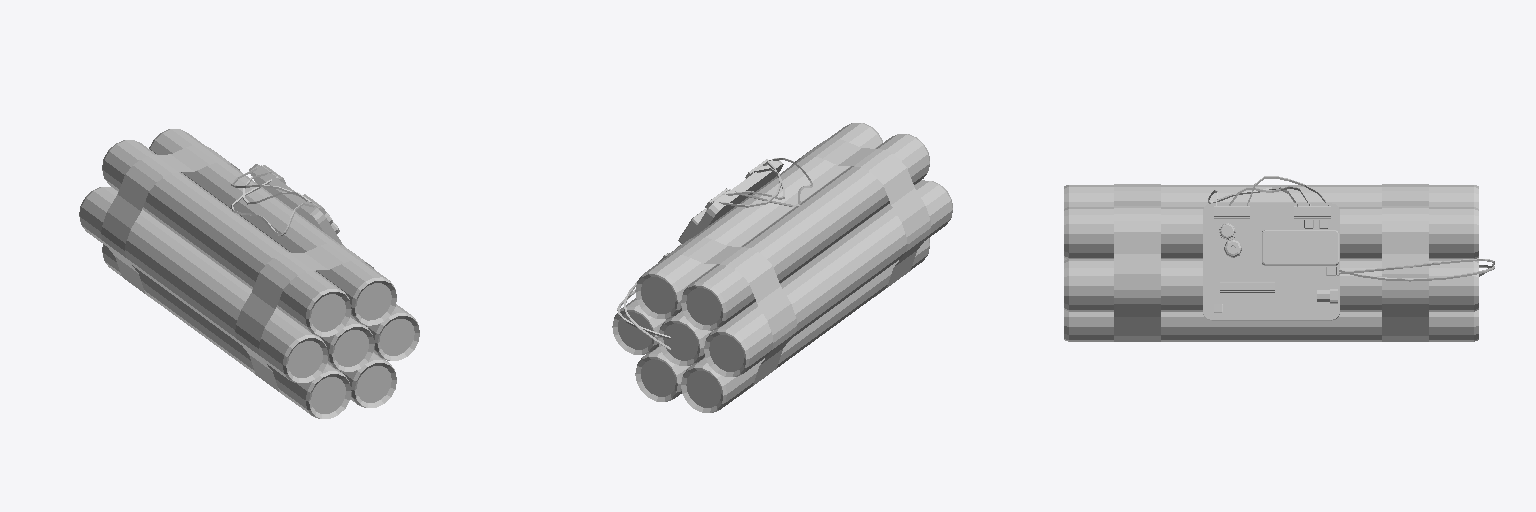
File: bomb.obj
3 renders of one model, left to right at view 1: azimuth 30°, elevation 25°; view 2: azimuth 150°, elevation 25°; view 3: azimuth 270°, elevation 25°, orthographic.
Parts seen in each view (by area): view 1: C4-Bomb_Cylinder.015; view 2: C4-Bomb_Cylinder.015; view 3: C4-Bomb_Cylinder.015.
Boxes of the visible parts, x1=… form: C4-Bomb_Cylinder.015: x1=79, y1=129, x2=419, y2=418; C4-Bomb_Cylinder.015: x1=612, y1=123, x2=952, y2=412; C4-Bomb_Cylinder.015: x1=1064, y1=176, x2=1494, y2=341.
Size of the model in its own units: 2.85 by 2.64 by 6.64.